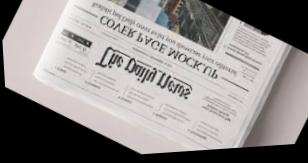paper: (0, 0, 301, 162)
